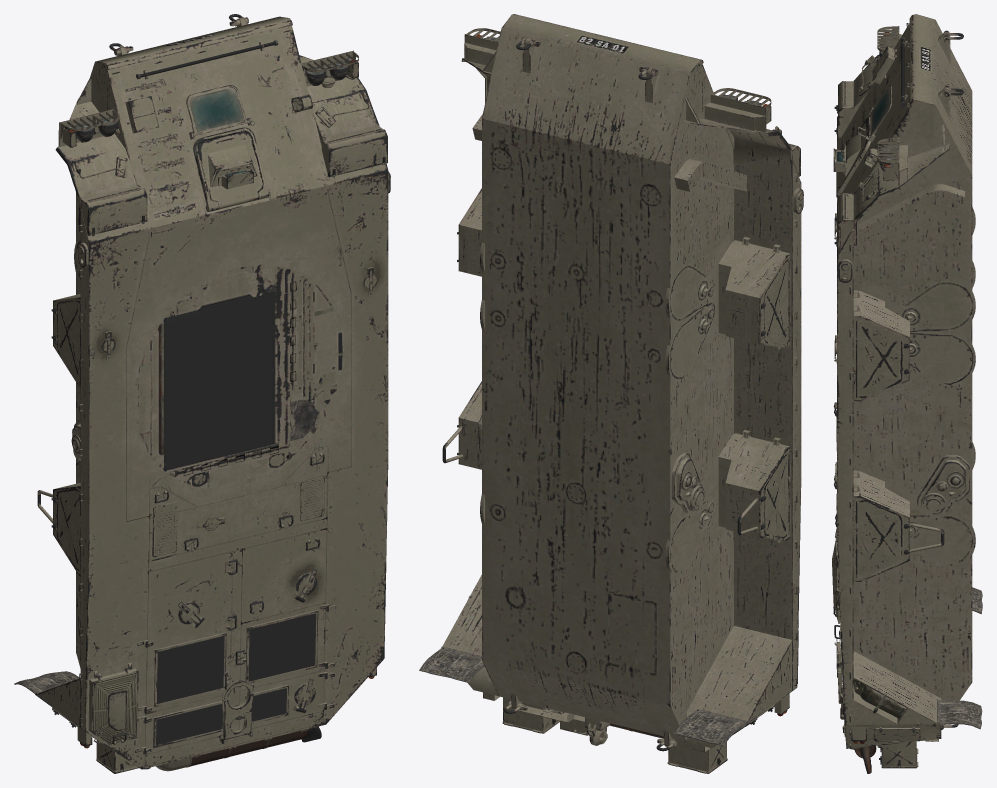
The model's file is Hull.glb.
3 renders of one model, left to right at view 1: azimuth 30°, elevation 25°; view 2: azimuth 150°, elevation 25°; view 3: azimuth 270°, elevation 25°, orthographic. The views are drawn at different scales.
Visible parts, largest first — view 1: set_0_group_0; view 2: set_0_group_0; view 3: set_0_group_0.
Boxes of the visible parts, x1=… form: set_0_group_0: x1=14, y1=14, x2=390, y2=773; set_0_group_0: x1=419, y1=14, x2=803, y2=773; set_0_group_0: x1=832, y1=14, x2=982, y2=773.
Bounding box in the file's own units: 3.09 × 6.74 × 1.37.
1 material, 1 textured.
